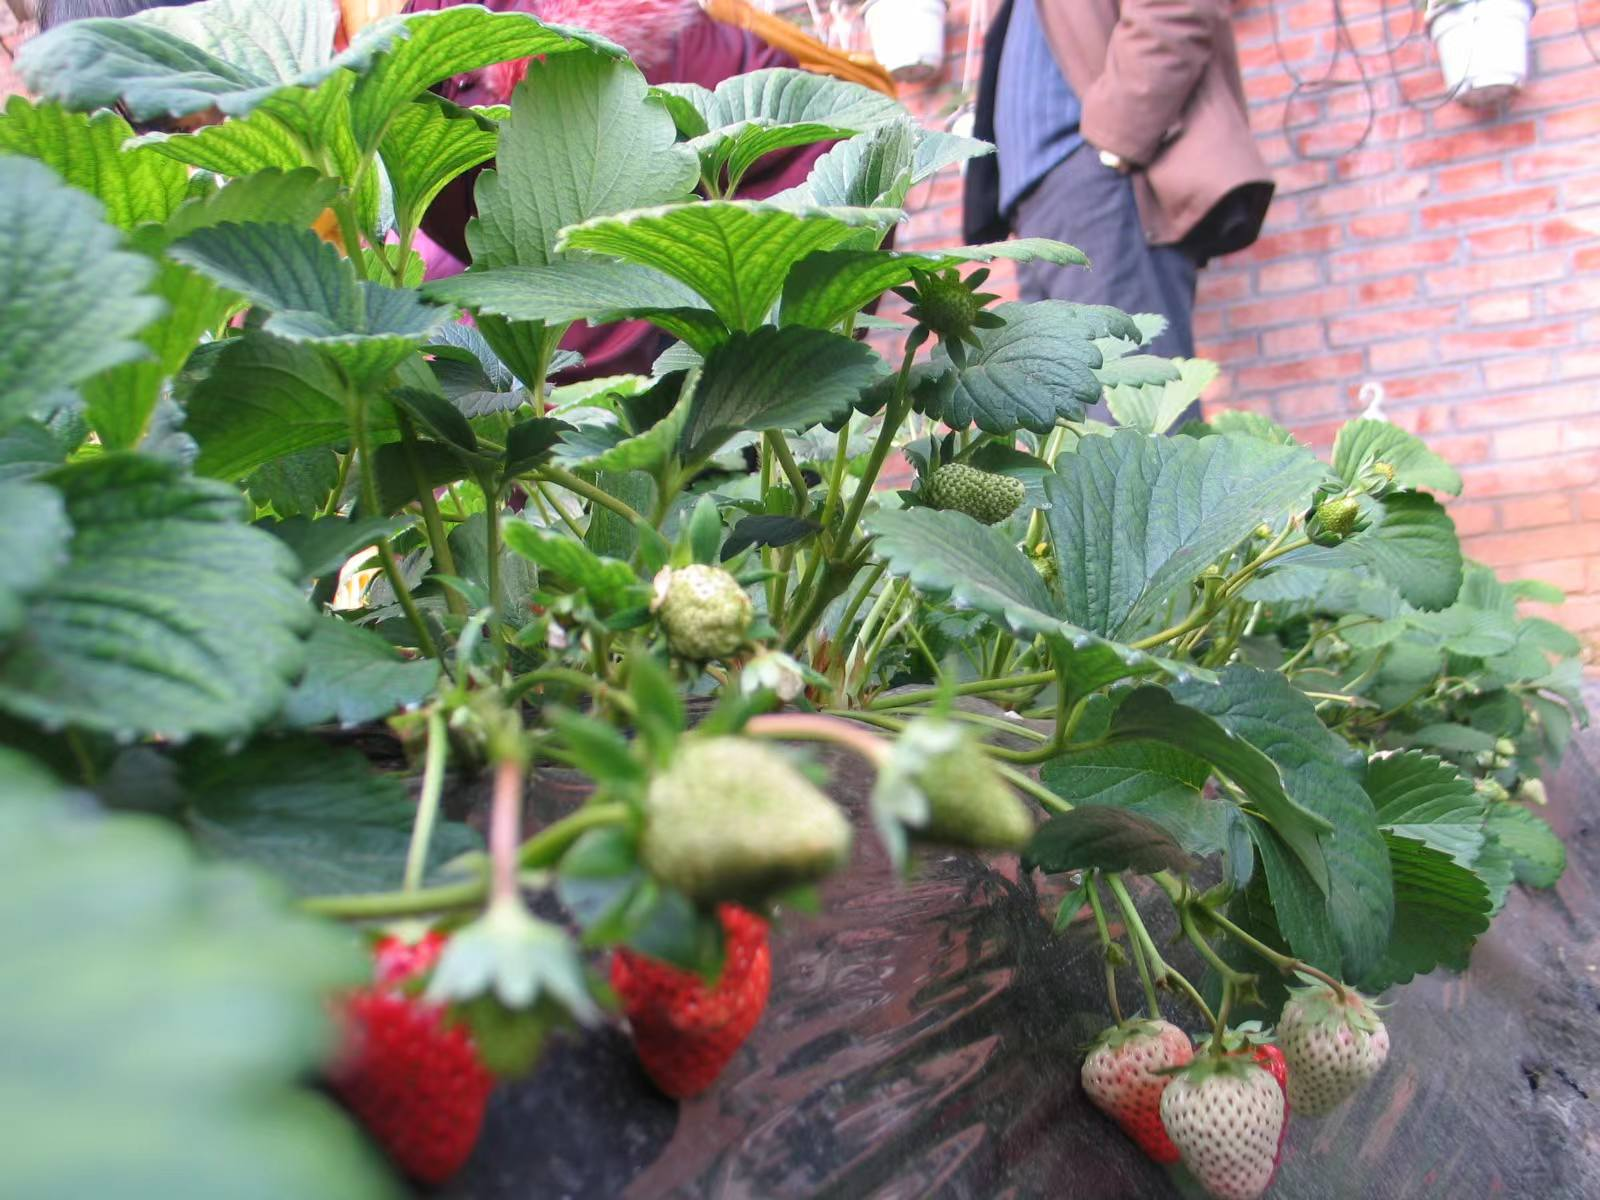StrawberryCone: (317, 923, 511, 1187), (607, 899, 779, 1111)
StrawberryIrremovable: (626, 726, 860, 897), (889, 708, 1036, 858), (1277, 974, 1393, 1129), (1158, 1058, 1293, 1190), (1083, 1000, 1186, 1158), (648, 558, 772, 662), (917, 451, 1029, 527), (1305, 495, 1363, 543)
StrawberryRemovable: (321, 923, 509, 1187), (614, 899, 775, 1105)
